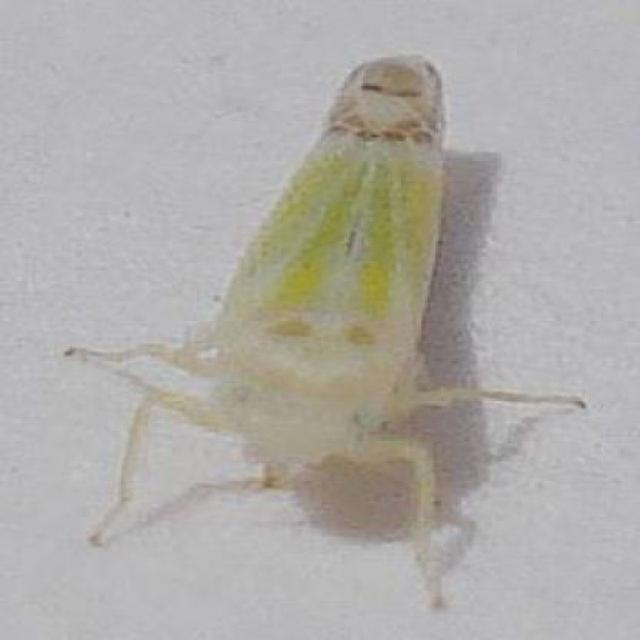green-leafhopper: (108, 58, 524, 568)
